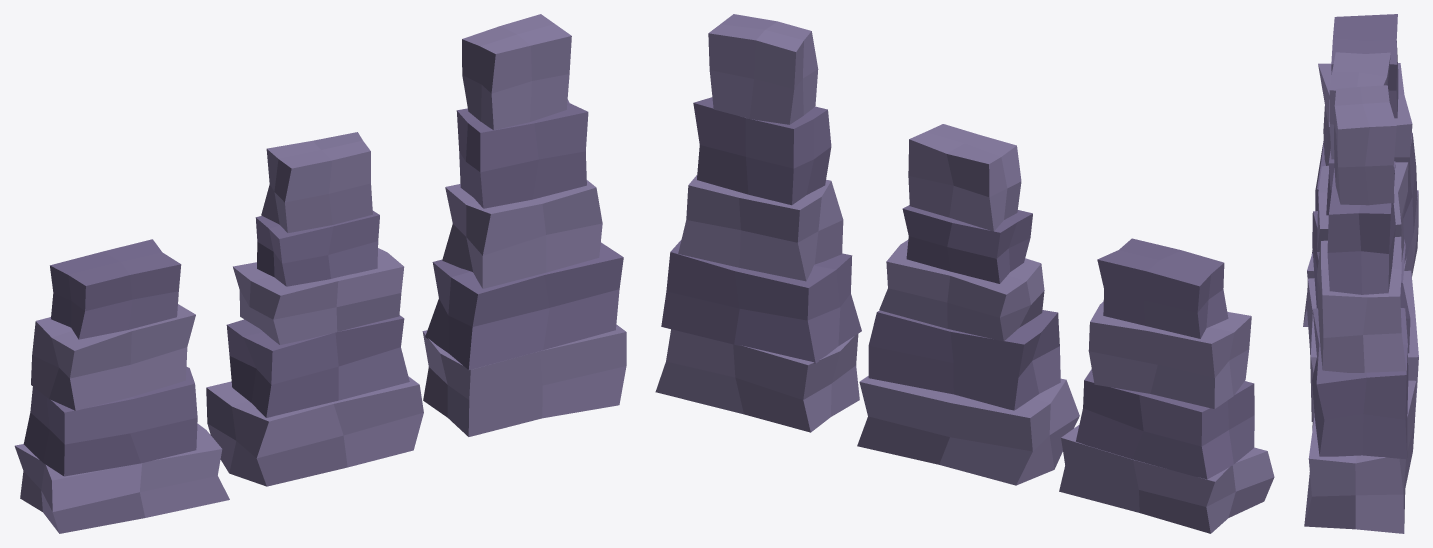
The model's file is tebing_lembah_v001.glb.
The picture shows the model from 3 angles, left to right: view 1: azimuth 30°, elevation 25°; view 2: azimuth 150°, elevation 25°; view 3: azimuth 270°, elevation 25°; orthographic projection. The views are drawn at different scales.
Parts seen in each view (by area): view 1: tebing_lembah_c, tebing_lembah_b, tebing_lembah_a; view 2: tebing_lembah_c, tebing_lembah_b, tebing_lembah_a; view 3: tebing_lembah_c, tebing_lembah_a, tebing_lembah_b.
Boxes of the visible parts, left/top/right/bottom form: tebing_lembah_c: left=422, top=14, right=626, bottom=436; tebing_lembah_b: left=206, top=132, right=423, bottom=486; tebing_lembah_a: left=14, top=239, right=229, bottom=533; tebing_lembah_c: left=655, top=14, right=861, bottom=432; tebing_lembah_b: left=857, top=124, right=1079, bottom=485; tebing_lembah_a: left=1059, top=238, right=1274, bottom=533; tebing_lembah_c: left=1304, top=85, right=1416, bottom=533; tebing_lembah_a: left=1303, top=14, right=1418, bottom=326; tebing_lembah_b: left=1307, top=52, right=1418, bottom=421.
Size of the model in its own units: 22.98 by 14.06 by 3.84.
